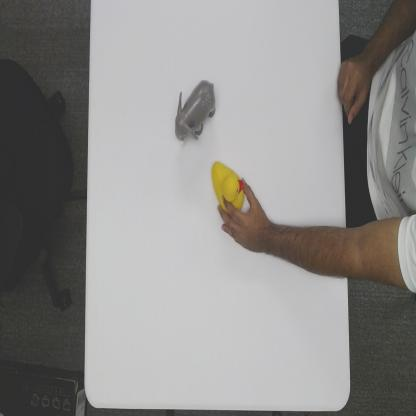Arm: (270, 221, 348, 283)
Duck: (211, 155, 245, 214)
Elephant: (174, 79, 218, 144)
Hand: (217, 179, 269, 254)
